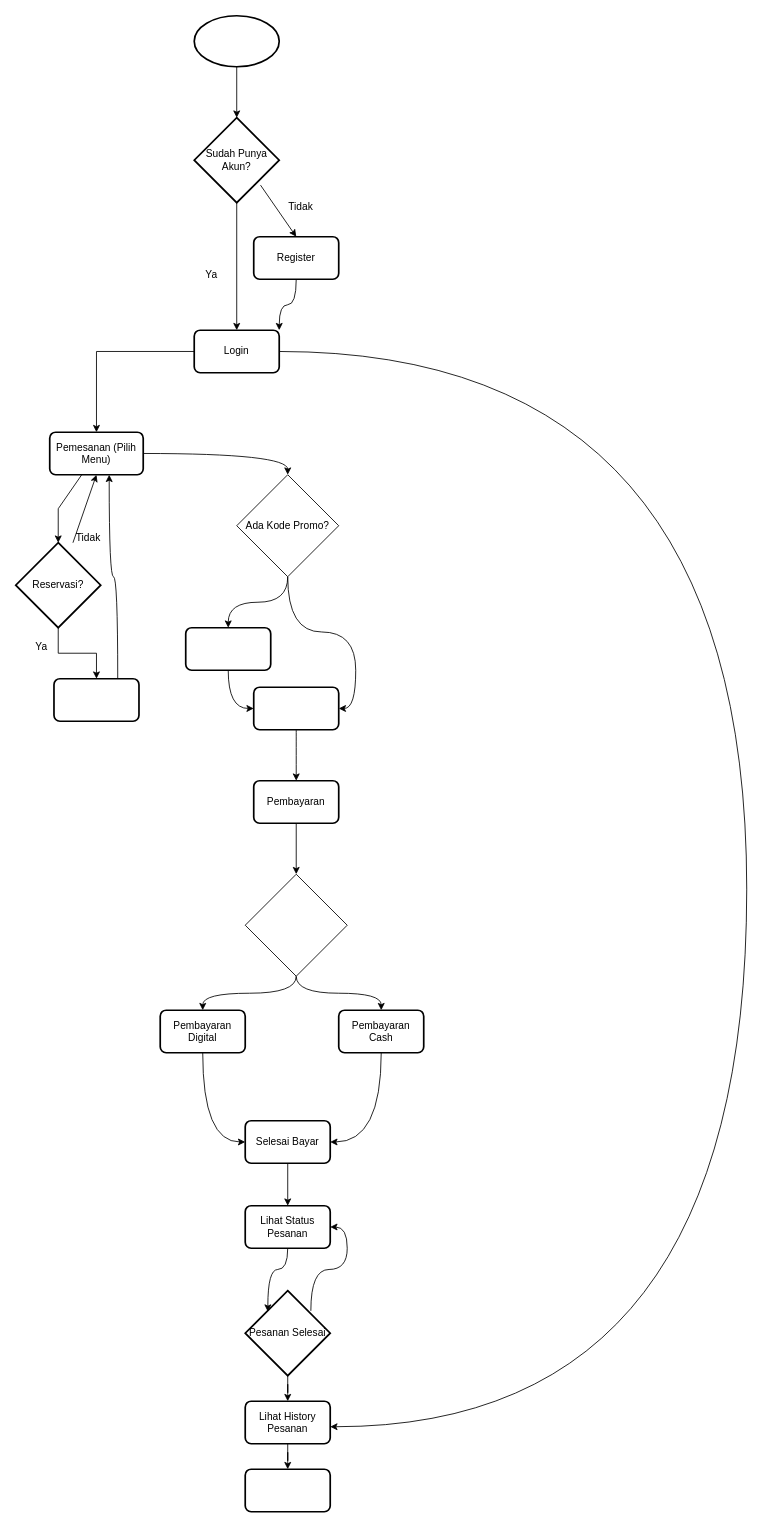
Some shapes in this 762 by 1527 pixel diagram are drawn without their labels. The centre of each missing label's shape, as x and y in pixels:
End: (x=287, y=1490)
Hitung Total Harga: (x=295, y=708)
Input Kode Promo: (x=227, y=648)
Input Reservasi: (x=96, y=699)
Mulai: (x=236, y=40)
Pilih Metode Pembayaran: (x=295, y=924)
